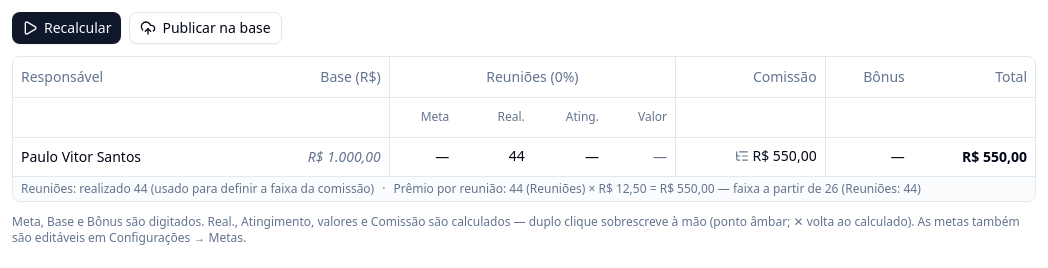
Scenario: CompGrid — save otimista em background › digitação com save em voo sobrevive ao eco de props (guard hasPending)
Double-click the text "R$ 1.000,00" at coordinates (344, 156), box 308,146 -> 381,166
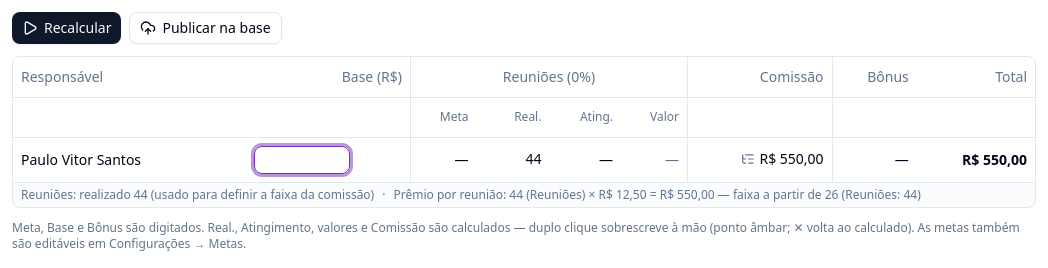
Type "2000" into the field at coordinates (302, 160), box 254,146 -> 350,174
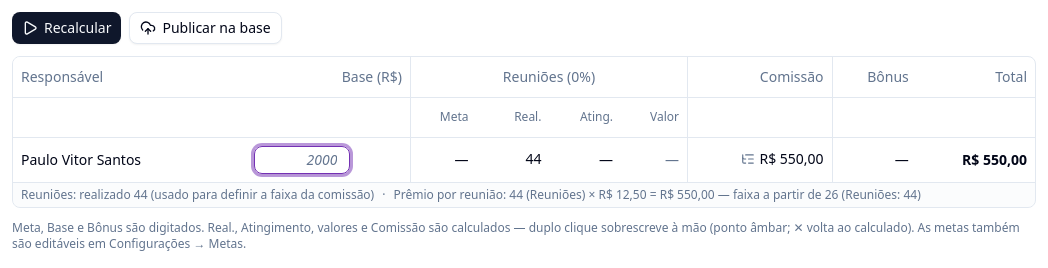
Leave the field, box 254,146 -> 350,174
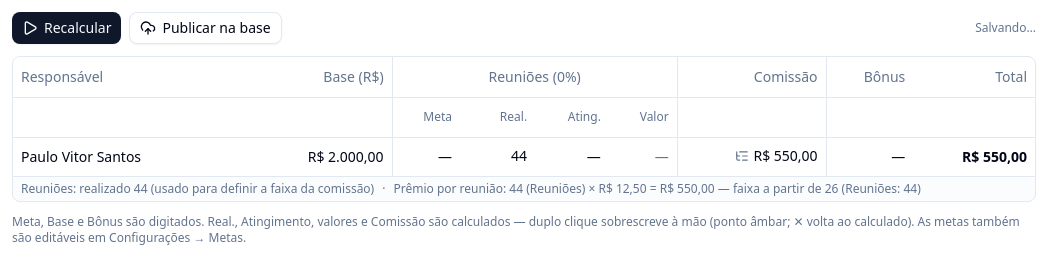
Check: the text "R$ 2.000,00" is shown, box 308,146 -> 384,166
